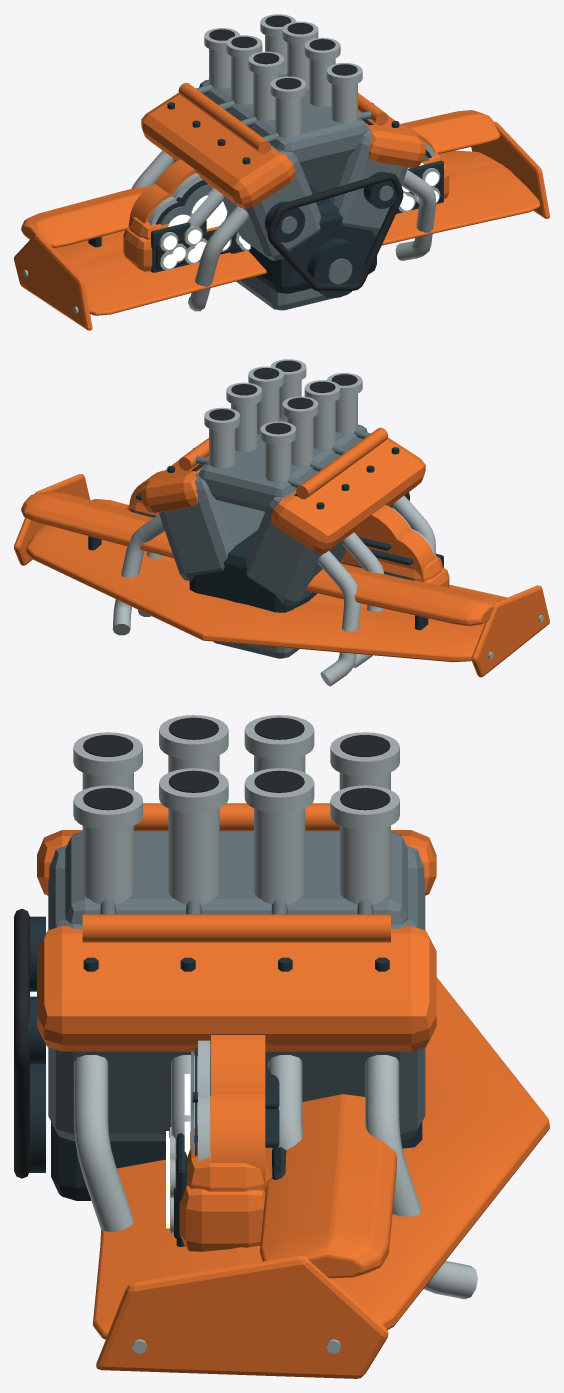
The model's file is workshop-parts-v1.glb.
3 renders of one model, top to bottom at view 1: azimuth 30°, elevation 25°; view 2: azimuth 150°, elevation 25°; view 3: azimuth 270°, elevation 25°, orthographic. The views are drawn at different scales.
Visible parts, largest first — view 1: DR2_Engine_injected, DR2_Wing_sport, DR2_Wing_delta, DR2_Wing_stunt, DR2_Lights_pods, DR2_Lights_bar, DR2_Lights_round, DR2_Lights_rally, DR2_Wing_lip; view 2: DR2_Engine_injected, DR2_Wing_delta, DR2_Wing_stunt, DR2_Lights_round, DR2_Lights_rally, DR2_Lights_pods, DR2_Wing_sport; view 3: DR2_Engine_injected, DR2_Wing_delta, DR2_Wing_stunt, DR2_Wing_sport, DR2_Lights_rally, DR2_Lights_bar, DR2_Lights_round, DR2_Lights_pods.
Part boxes in pixels (left/top/right/bottom): DR2_Engine_injected: left=131, top=14, right=435, bottom=311; DR2_Wing_sport: left=71, top=165, right=540, bottom=315; DR2_Wing_delta: left=14, top=122, right=549, bottom=330; DR2_Wing_stunt: left=21, top=110, right=500, bottom=247; DR2_Lights_pods: left=128, top=151, right=443, bottom=272; DR2_Lights_bar: left=123, top=164, right=449, bottom=271; DR2_Lights_round: left=155, top=159, right=227, bottom=228; DR2_Lights_rally: left=129, top=125, right=435, bottom=226; DR2_Wing_lip: left=76, top=169, right=511, bottom=275; DR2_Engine_injected: left=112, top=359, right=435, bottom=686; DR2_Wing_delta: left=14, top=474, right=549, bottom=677; DR2_Wing_stunt: left=21, top=491, right=498, bottom=630; DR2_Lights_round: left=340, top=505, right=411, bottom=568; DR2_Lights_rally: left=129, top=470, right=435, bottom=581; DR2_Lights_pods: left=128, top=502, right=443, bottom=582; DR2_Wing_sport: left=91, top=499, right=507, bottom=623; DR2_Engine_injected: left=14, top=715, right=477, bottom=1299; DR2_Wing_delta: left=96, top=977, right=549, bottom=1378; DR2_Wing_stunt: left=260, top=1094, right=399, bottom=1278; DR2_Wing_sport: left=92, top=1159, right=262, bottom=1339; DR2_Lights_rally: left=184, top=1092, right=279, bottom=1190; DR2_Lights_bar: left=166, top=1127, right=265, bottom=1251; DR2_Lights_round: left=184, top=1035, right=279, bottom=1142; DR2_Lights_pods: left=166, top=1096, right=286, bottom=1246.
Bounding box in the file's own units: 1.83 × 0.8933 × 0.9386.
